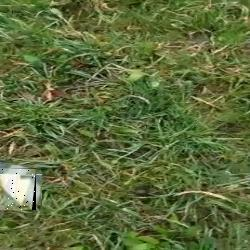restaffald: (0, 168, 36, 210)
